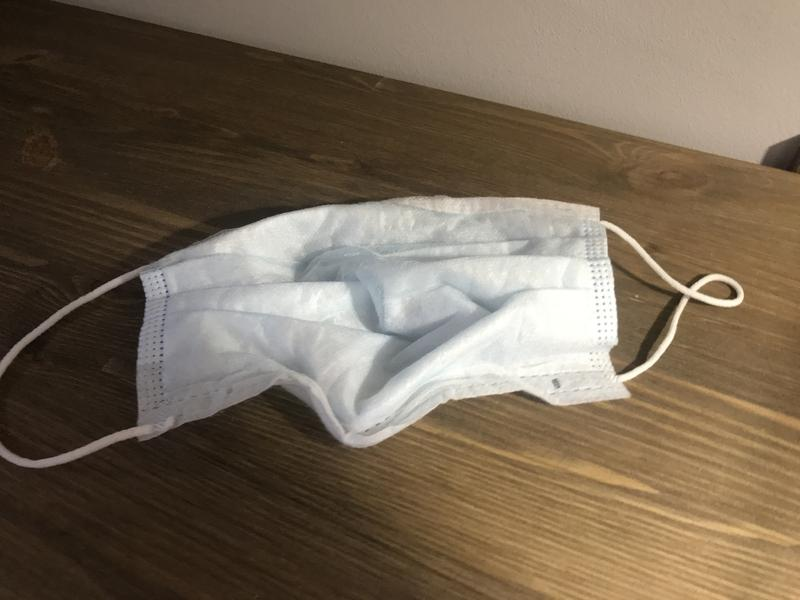medical_mask: (1, 196, 741, 472)
